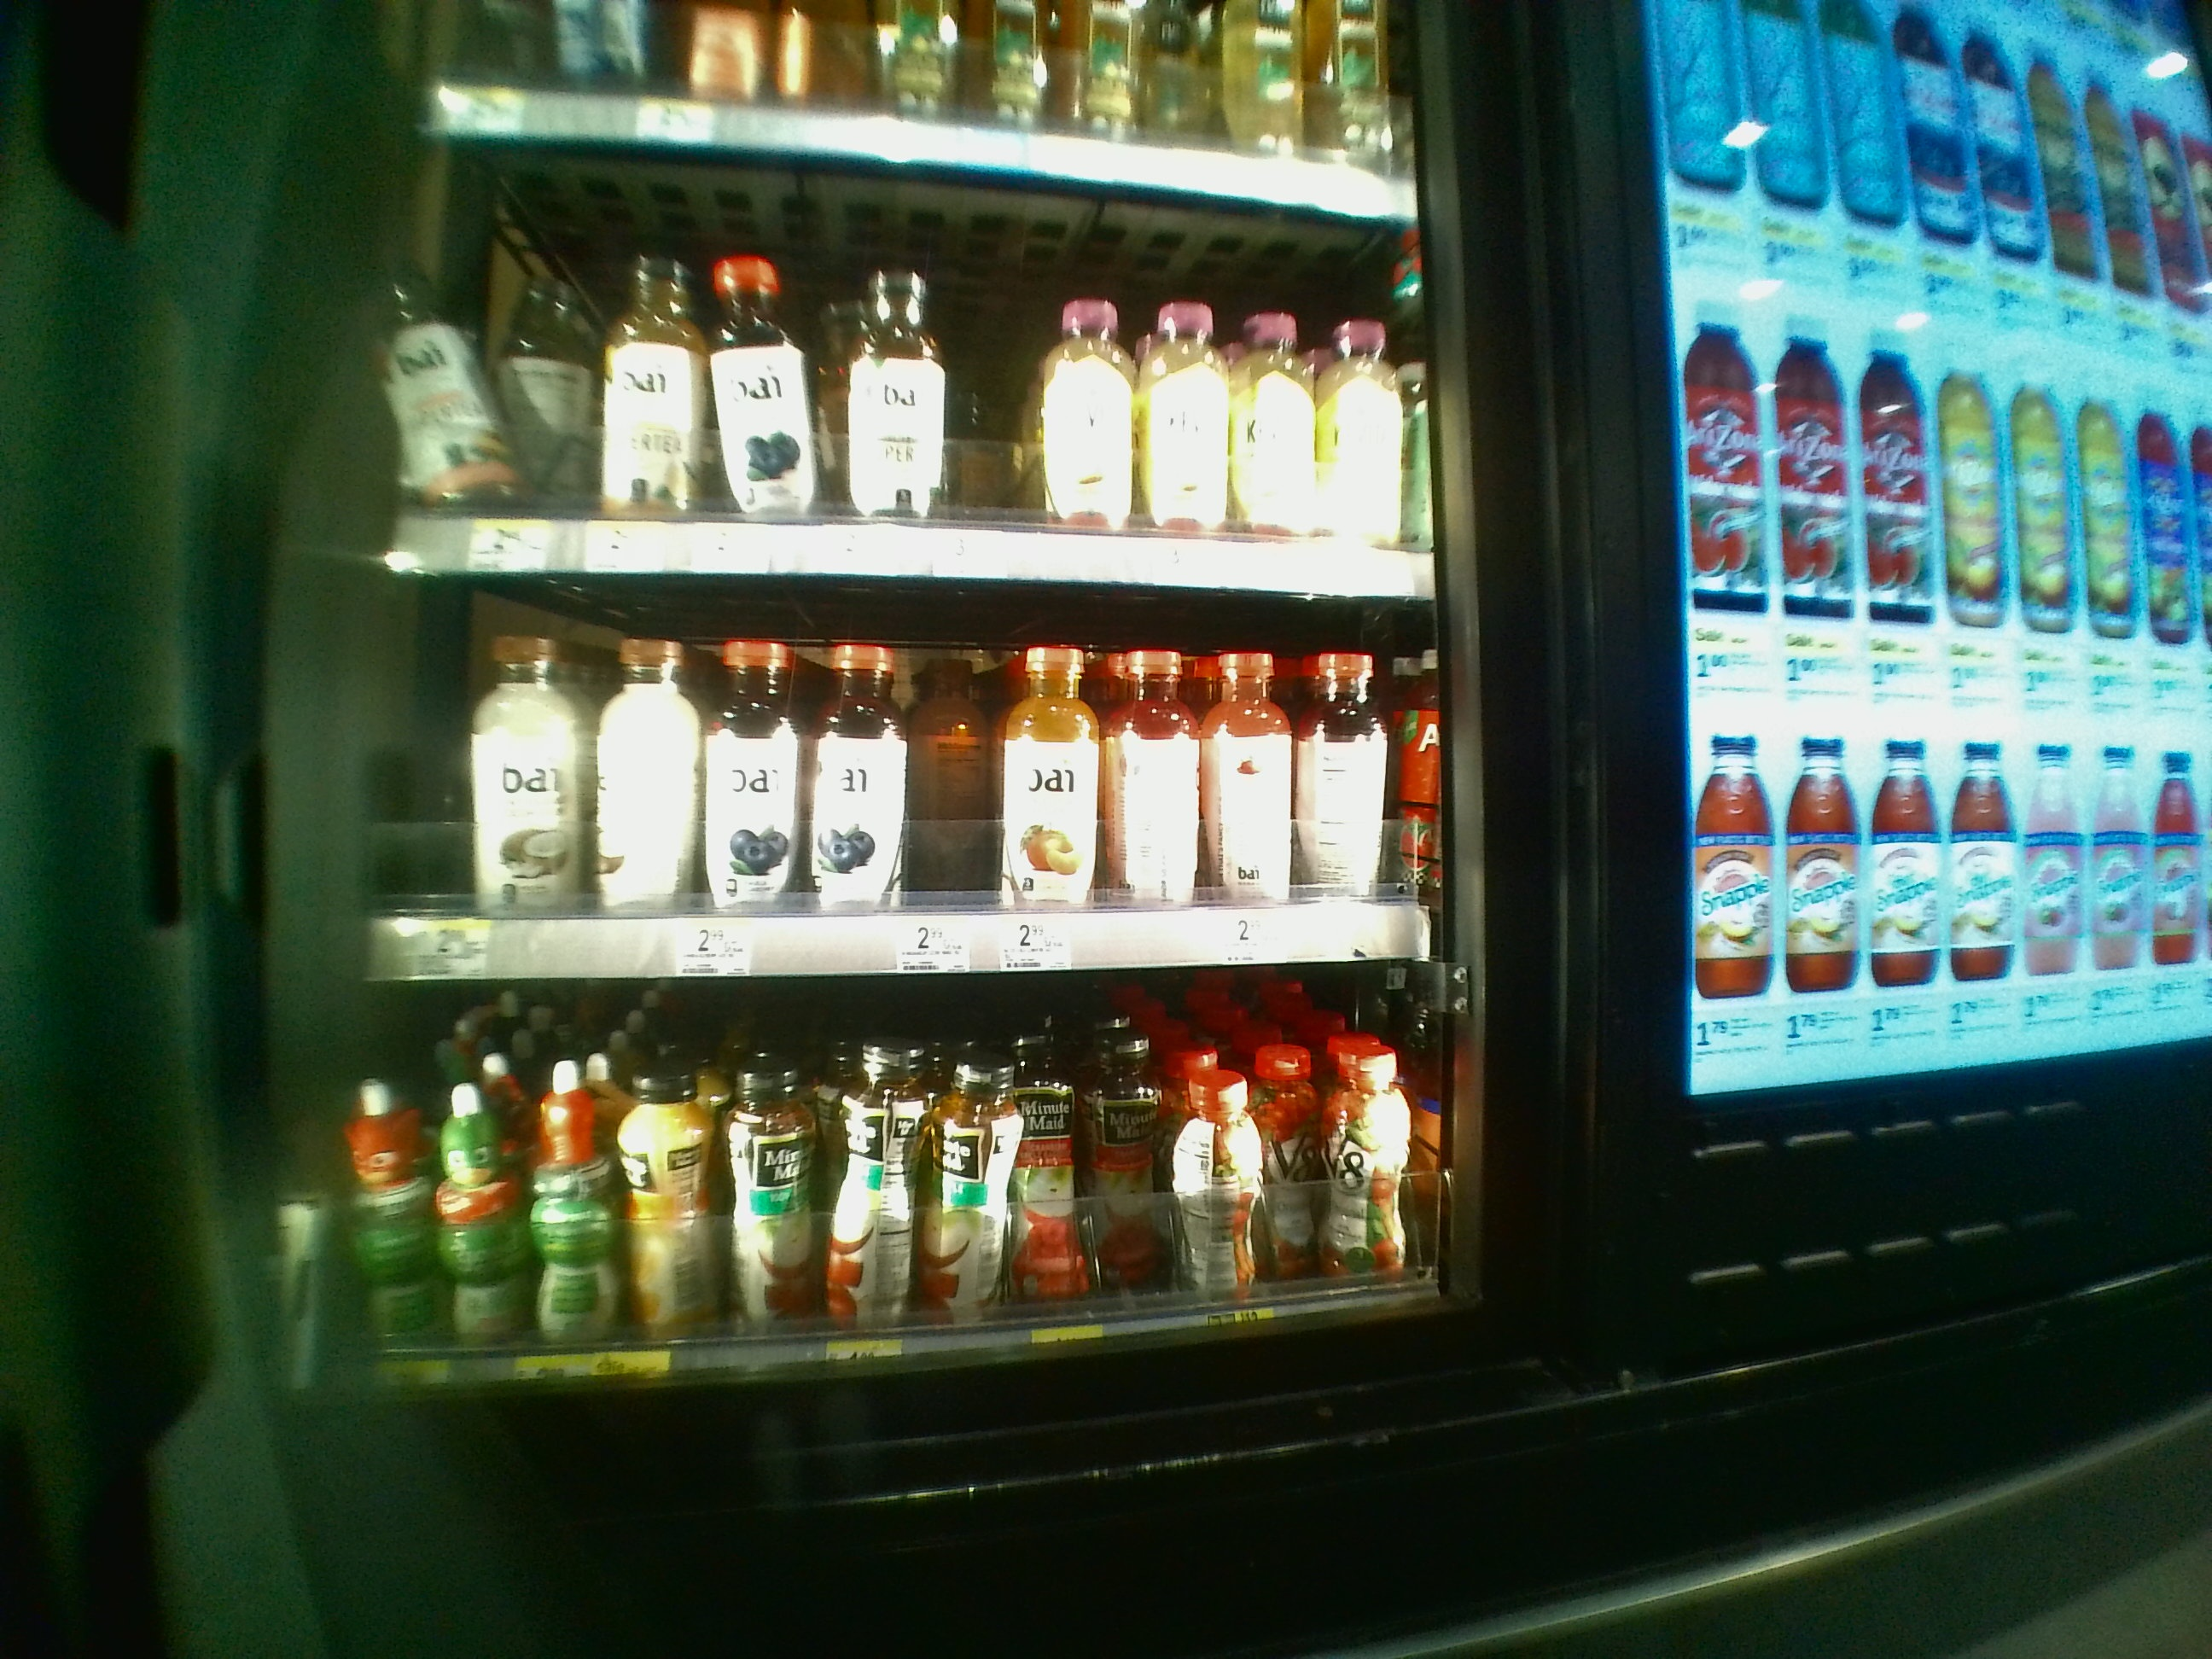shelf: (366, 134, 1433, 575), (347, 995, 1463, 1389), (354, 587, 1446, 988)
